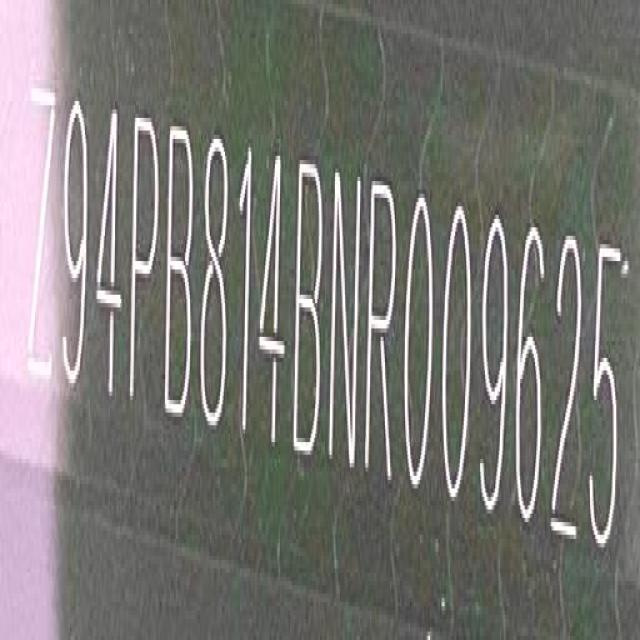0: (442, 200, 476, 506), (405, 193, 436, 491)
1: (236, 142, 251, 440)
2: (552, 231, 584, 554)
4: (95, 103, 125, 408), (259, 147, 288, 450)
5: (592, 238, 622, 560)
6: (516, 225, 547, 533)
8: (202, 127, 230, 432)
9: (481, 216, 510, 518), (60, 97, 89, 399)
B: (165, 115, 196, 421), (295, 154, 325, 464)
N: (330, 172, 365, 469)
P: (131, 108, 162, 414)
R: (369, 179, 402, 483)
Z: (28, 92, 57, 390)
